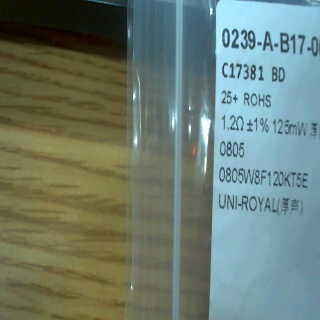1.2R: (217, 113, 247, 159)
